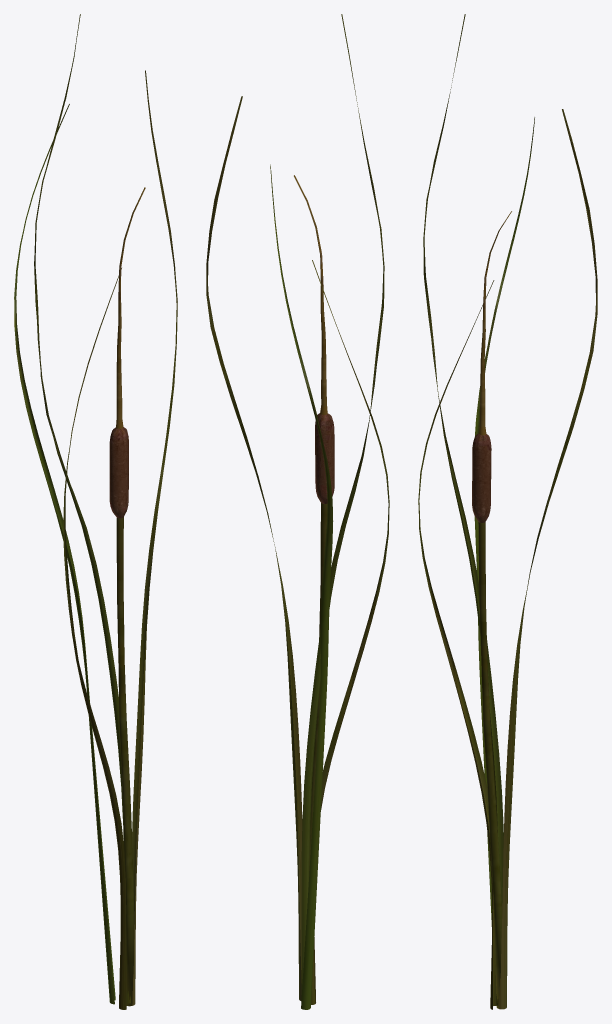
The model's file is Cattail.obj.
3 renders of one model, left to right at view 1: azimuth 30°, elevation 25°; view 2: azimuth 150°, elevation 25°; view 3: azimuth 330°, elevation 25°, orthographic. The views are drawn at different scales.
Visible parts, largest first — view 1: Cattail_04, Cattail__Leaf_05, Cattail__Leaf_07, Cattail__Leaf_08, Cattail__Leaf_06, Cattail_05, Cattail_06; view 2: Cattail__Leaf_07, Cattail__Leaf_06, Cattail__Leaf_05, Cattail__Leaf_08, Cattail_05, Cattail_04, Cattail_06; view 3: Cattail__Leaf_05, Cattail_04, Cattail__Leaf_06, Cattail__Leaf_08, Cattail_05, Cattail__Leaf_07, Cattail_06.
Part boxes in pixels (<box>): Cattail_04: <box>116,517,134,1006</box>; Cattail__Leaf_05: <box>132,70,177,1005</box>; Cattail__Leaf_07: <box>14,104,115,1004</box>; Cattail__Leaf_08: <box>63,268,126,1009</box>; Cattail__Leaf_06: <box>34,14,130,1003</box>; Cattail_05: <box>109,427,128,518</box>; Cattail_06: <box>116,187,145,428</box>; Cattail__Leaf_07: <box>270,164,333,1009</box>; Cattail__Leaf_06: <box>301,14,384,994</box>; Cattail__Leaf_05: <box>206,96,302,1000</box>; Cattail__Leaf_08: <box>309,260,389,1004</box>; Cattail_05: <box>315,413,334,503</box>; Cattail_04: <box>301,503,327,982</box>; Cattail_06: <box>294,175,327,414</box>; Cattail__Leaf_05: <box>499,109,597,1009</box>; Cattail_04: <box>478,522,502,1008</box>; Cattail__Leaf_06: <box>423,14,503,1005</box>; Cattail__Leaf_08: <box>418,280,496,1009</box>; Cattail_05: <box>472,433,491,522</box>; Cattail__Leaf_07: <box>474,117,534,926</box>; Cattail_06: <box>479,211,511,435</box>.
Size of the model in its own units: 16.65 by 100 by 13.02.
